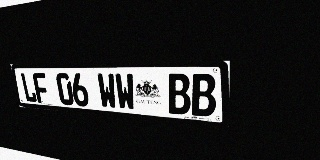0: (55, 73, 74, 106)
6: (70, 73, 90, 107)
B: (191, 74, 216, 117), (167, 74, 191, 115)
F: (32, 73, 50, 104)
L: (20, 73, 38, 103)
W: (114, 73, 136, 111), (97, 73, 118, 109)
